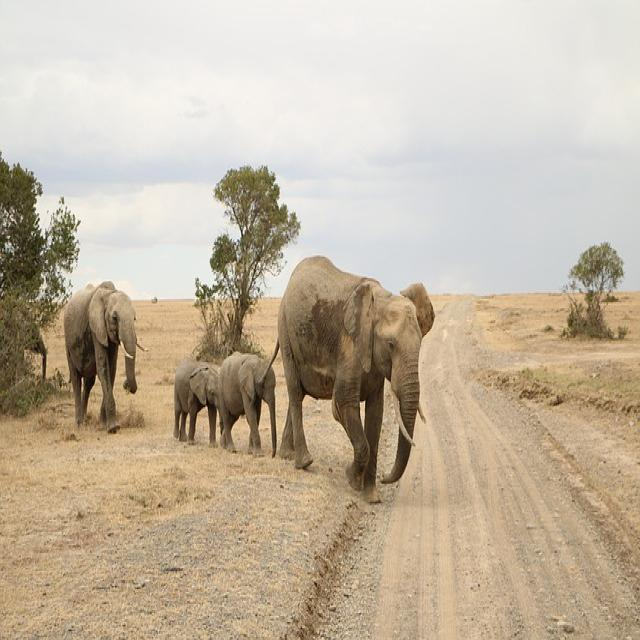elephant: (278, 257, 421, 502), (64, 282, 139, 433), (218, 351, 274, 457), (174, 357, 218, 446)
